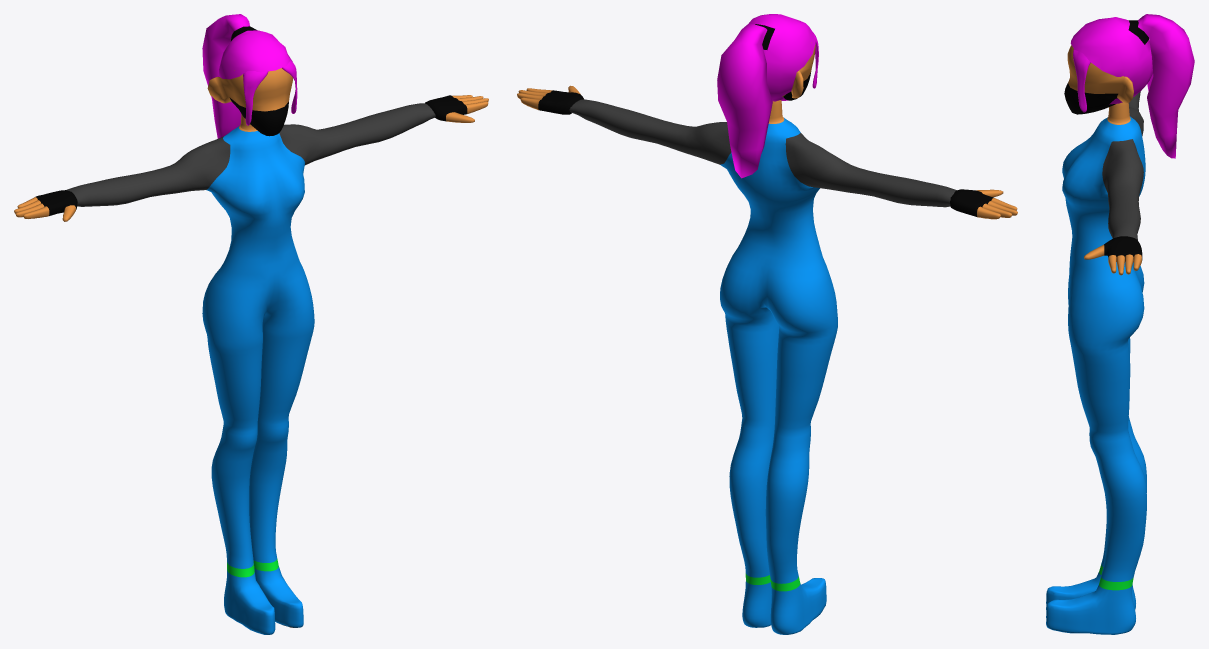
Rendered from protaninja.fbx.
3 renders of one model, left to right at view 1: azimuth 30°, elevation 25°; view 2: azimuth 150°, elevation 25°; view 3: azimuth 270°, elevation 25°, orthographic. The views are drawn at different scales.
Parts seen in each view (by area): view 1: Cylinder001; view 2: Cylinder001; view 3: Cylinder001.
Boxes of the visible parts, <box> form: Cylinder001: <box>14,14,488,634</box>; Cylinder001: <box>517,14,1017,634</box>; Cylinder001: <box>1046,14,1194,634</box>.
Size of the model in its own units: 55.9 by 65.54 by 14.57.
